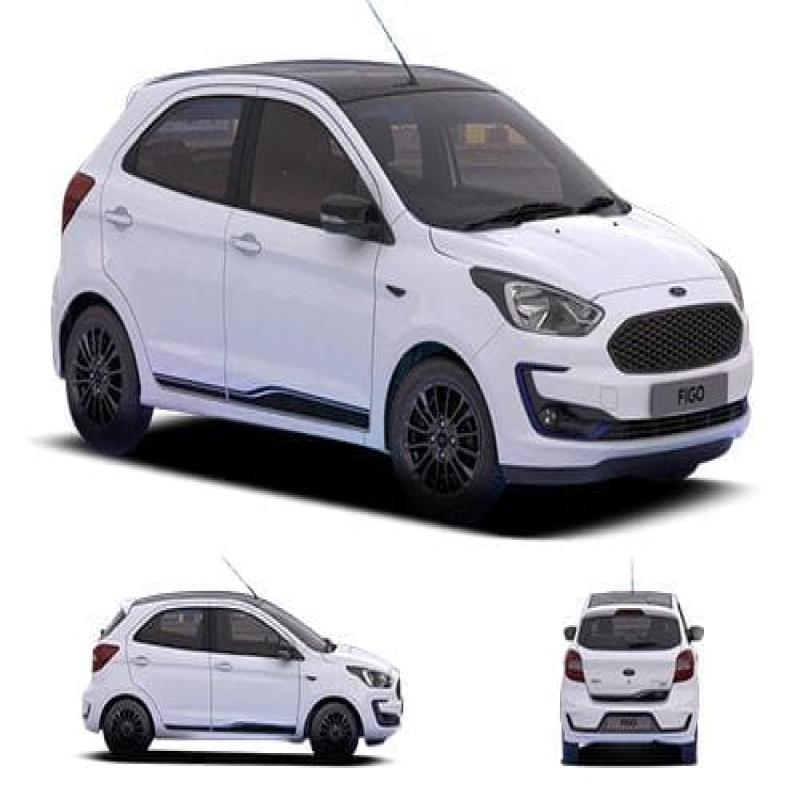car: (22, 31, 742, 536), (54, 579, 410, 770), (552, 572, 752, 777)
